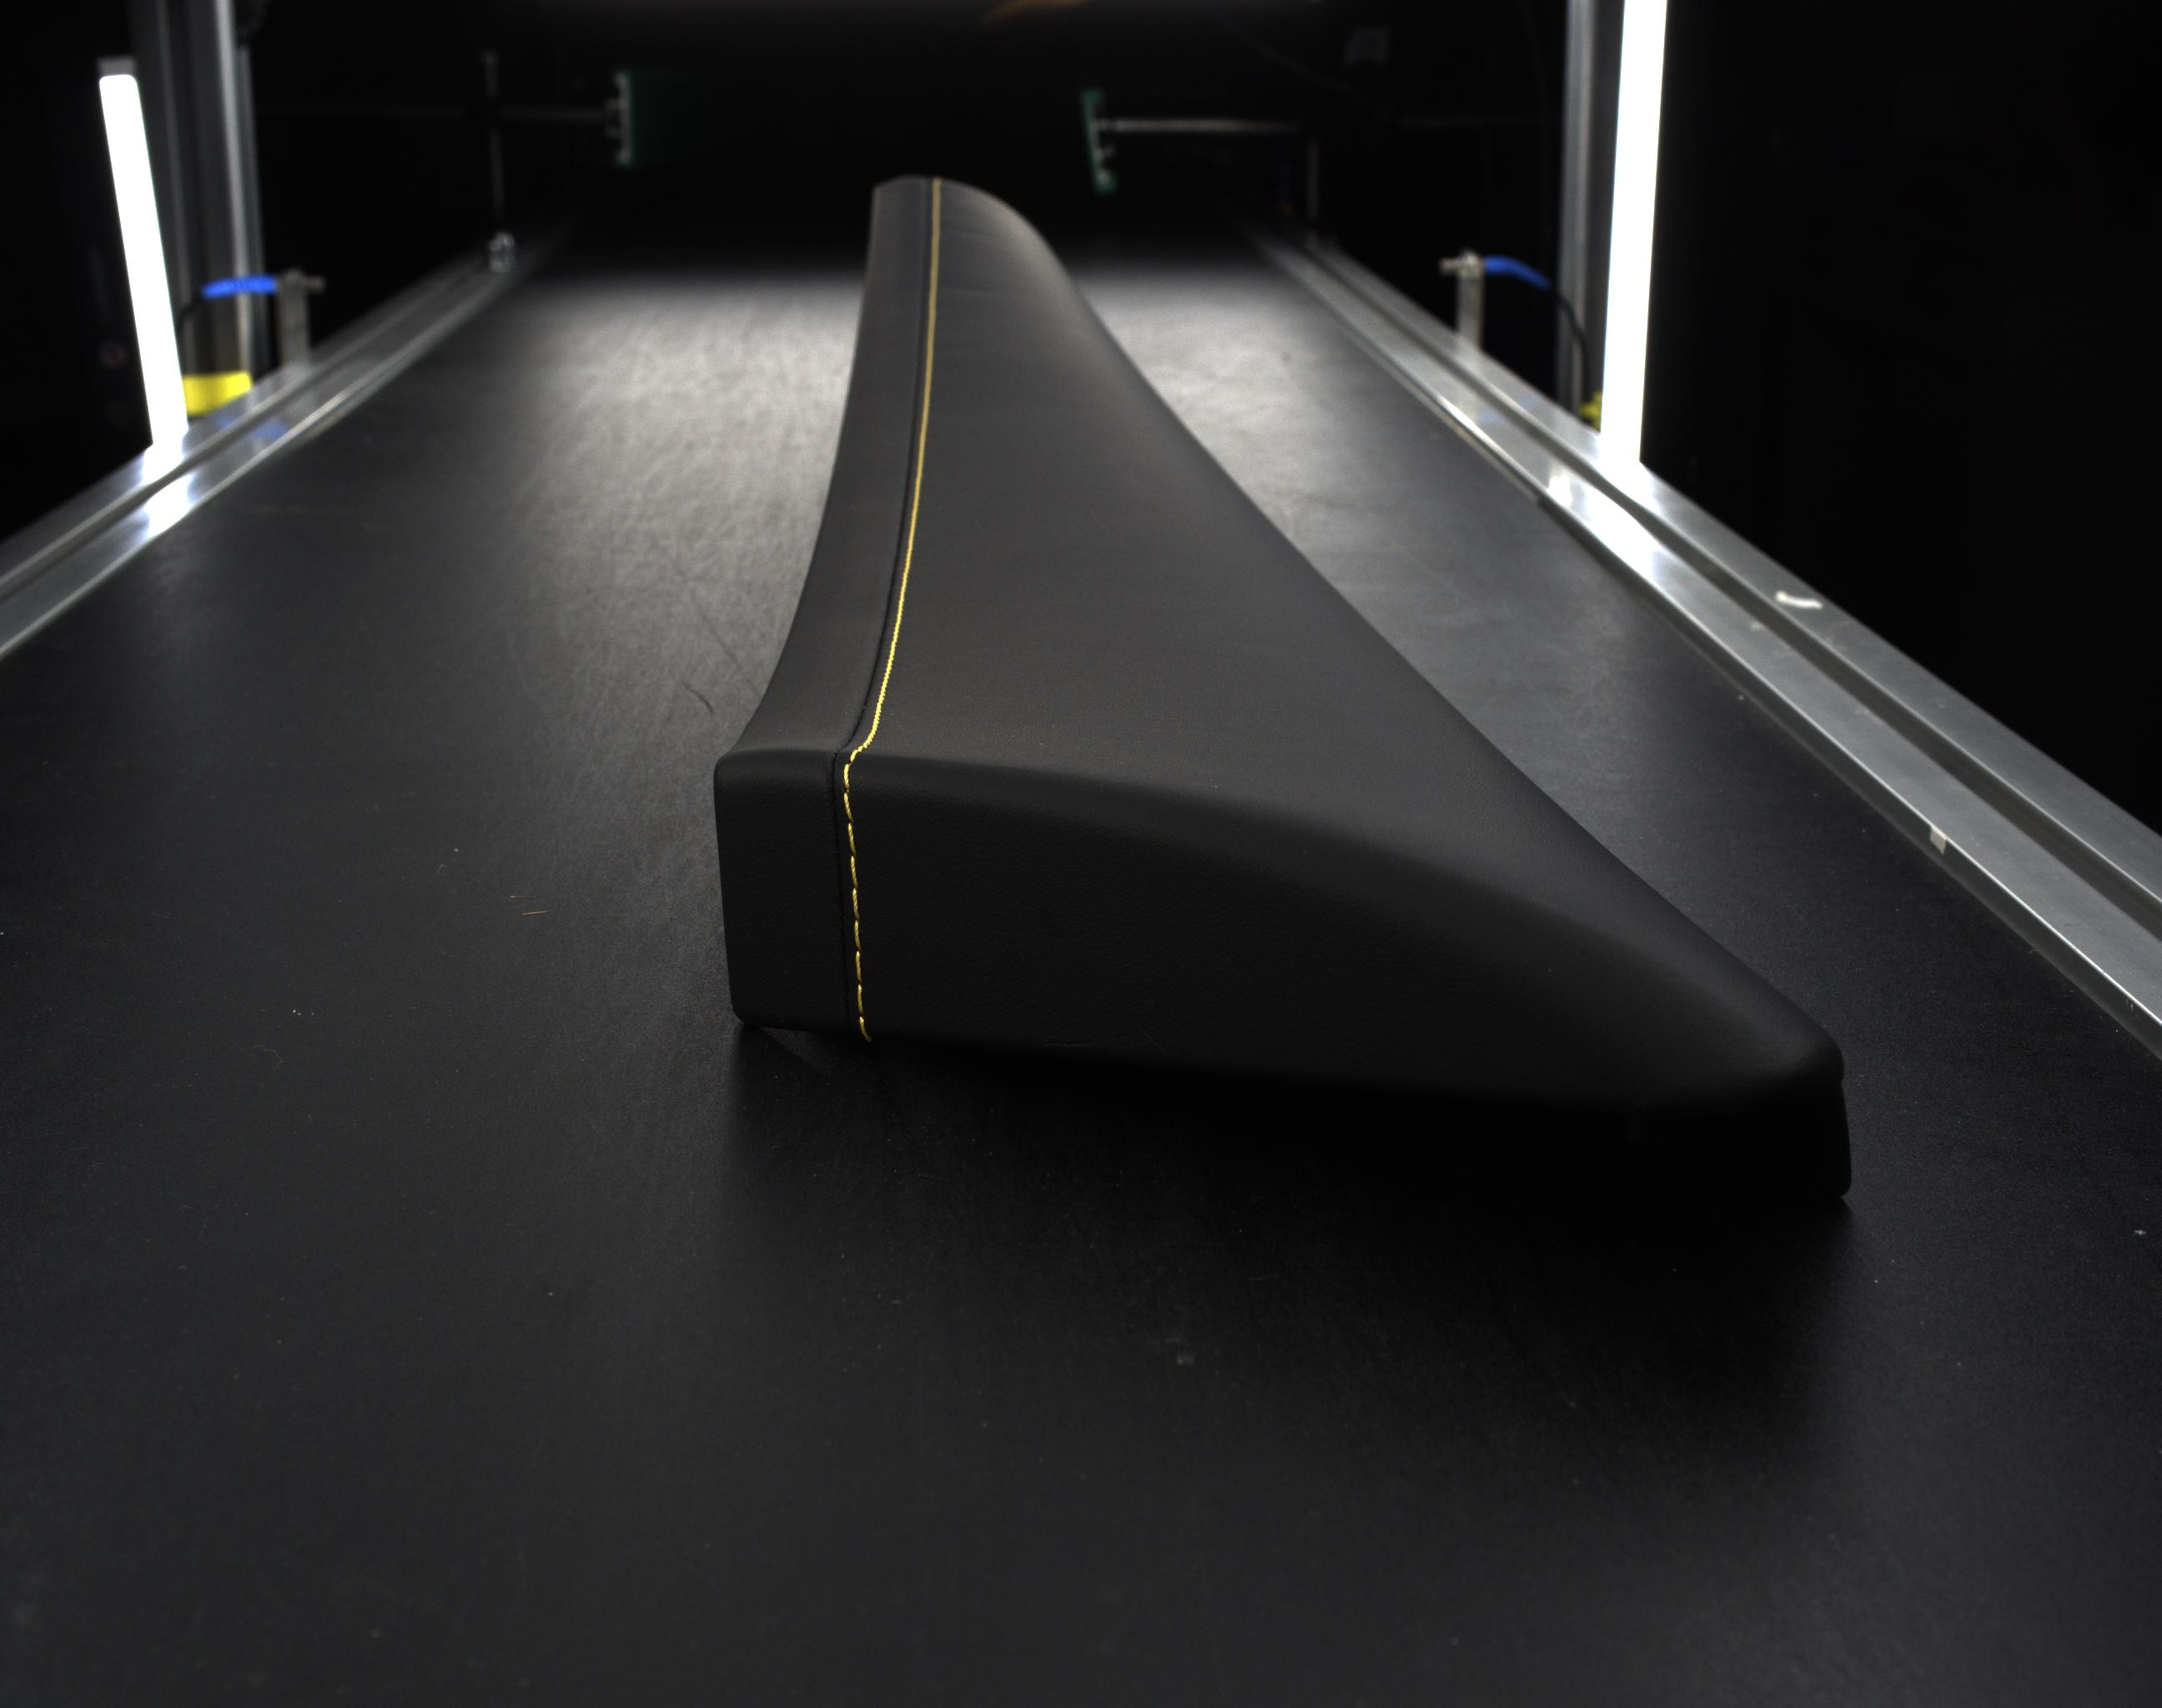vline: (846, 855, 858, 886), (846, 823, 856, 853), (851, 951, 862, 981), (841, 795, 853, 820), (849, 890, 860, 918), (855, 983, 865, 1011), (841, 764, 851, 790), (851, 922, 862, 948), (856, 1016, 869, 1037)
